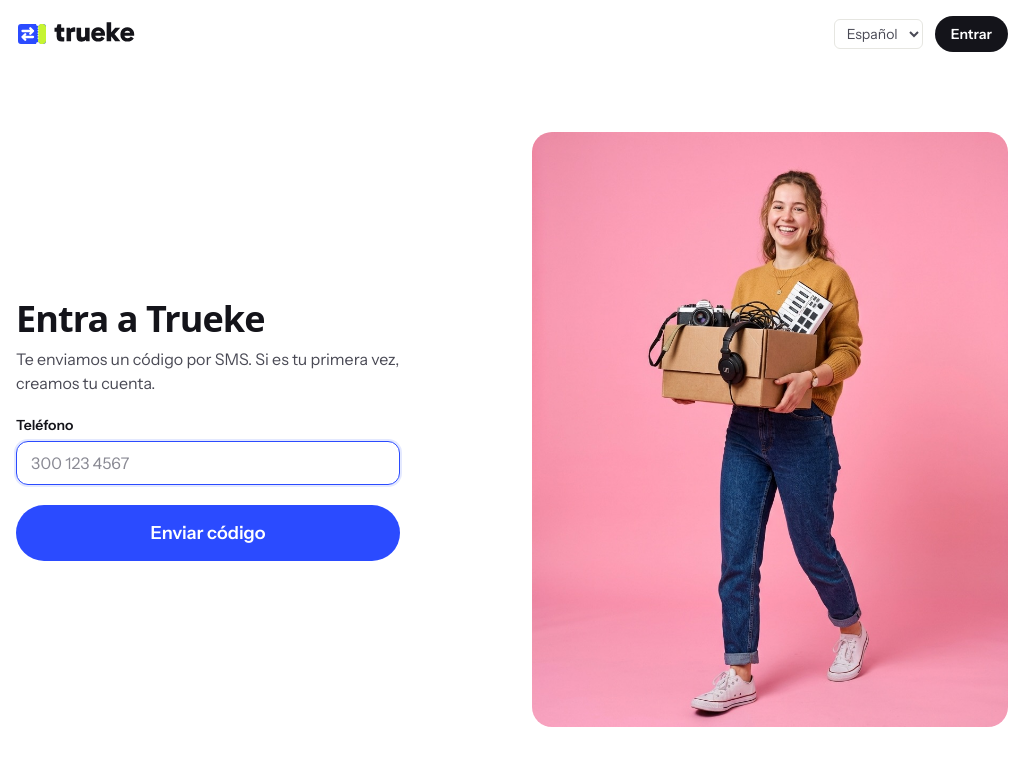
Test case: entrar › código incorrecto: muestra el error y no inicia sesión
The width and height of the screenshot is (1024, 768).
Step 1. Type "3001112233" into the field labelled "Teléfono" → (208, 462), box [16,440,400,484]
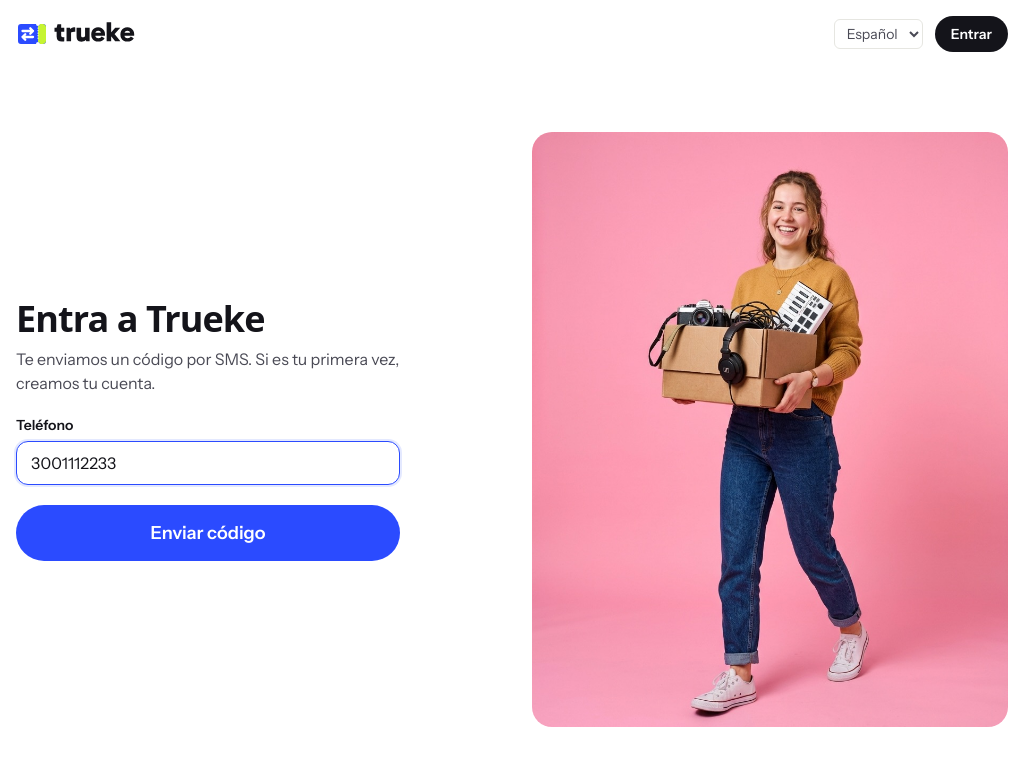
Step 2. Click the button "Enviar código" → (208, 532), box [16,504,400,560]
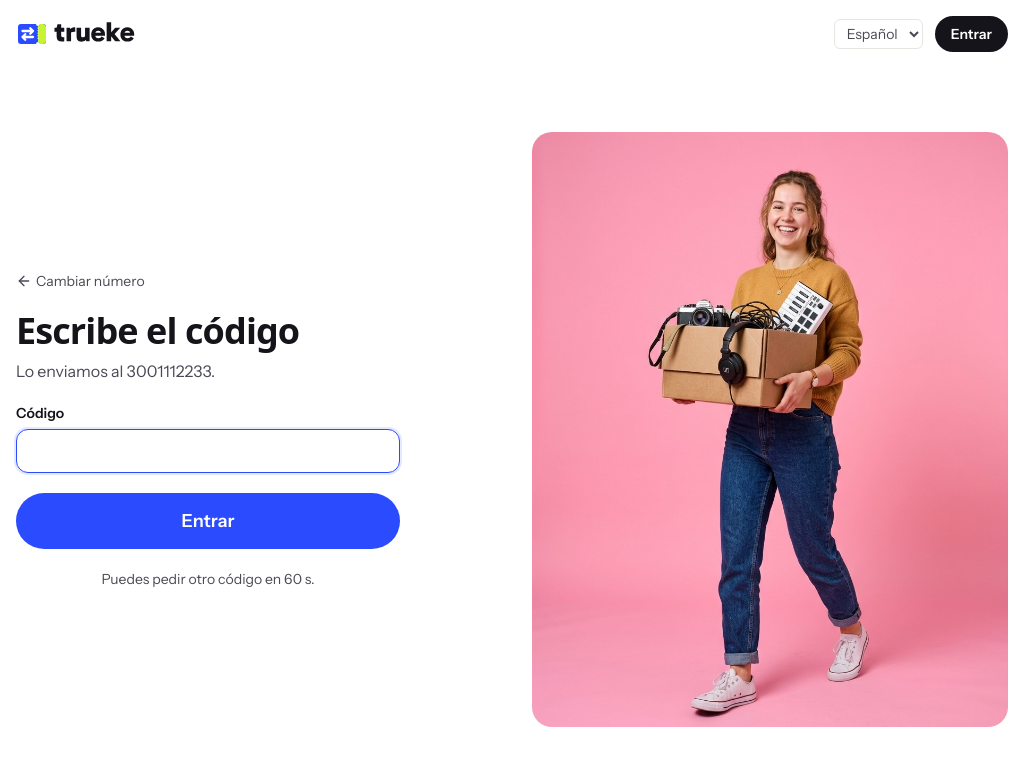
Step 3. Type "000000" into the field labelled "Código" → (208, 450), box [16,428,400,472]
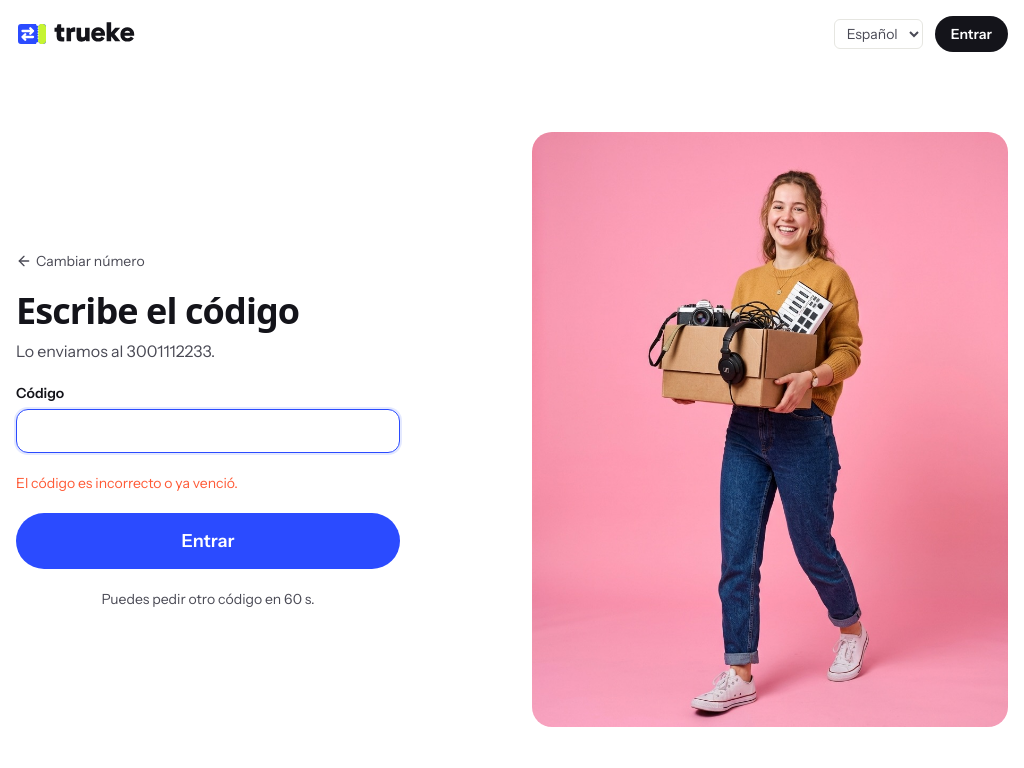
Now the text "El código es incorrecto o ya venció." is shown, box [16,474,238,492]
